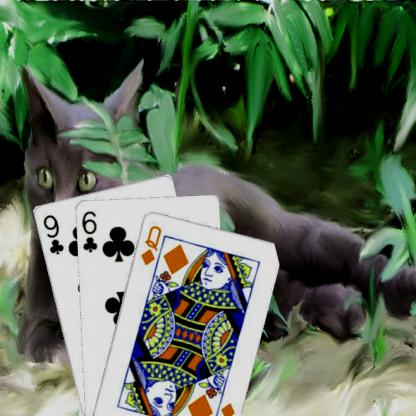6C: (78, 207, 98, 254)
9C: (40, 211, 65, 256)
QD: (138, 222, 163, 267), (211, 399, 236, 416)
